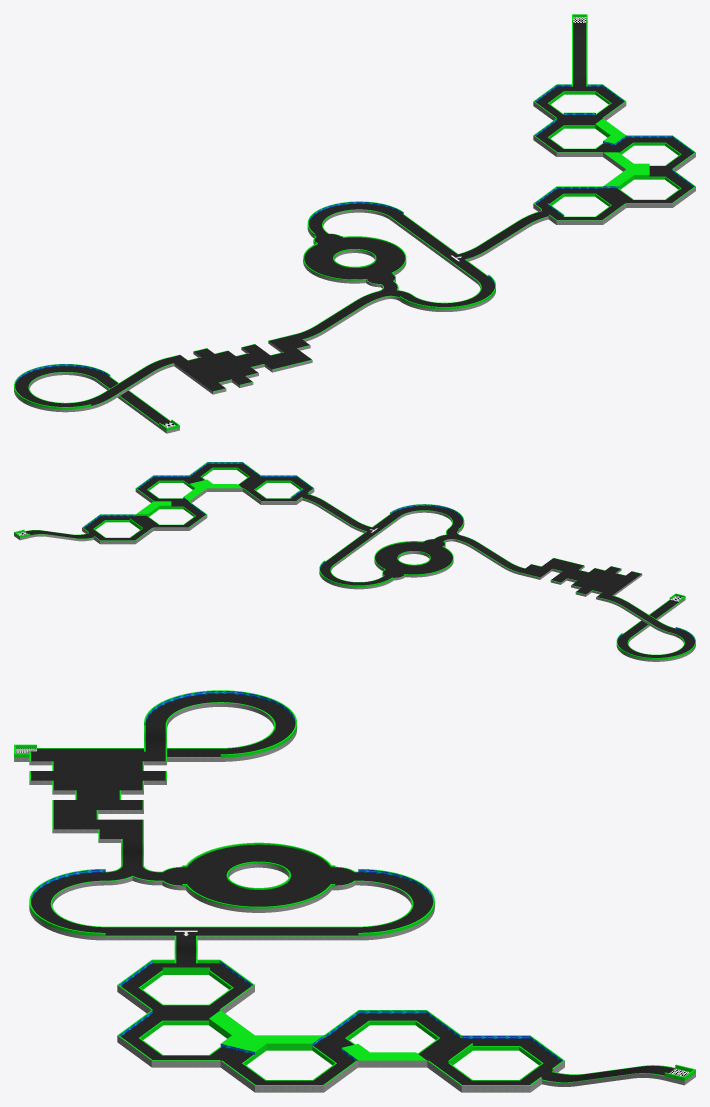
Rendered from track_basic4.dae.
3 views of the same model, one above another, from view 1: azimuth 30°, elevation 25°; view 2: azimuth 150°, elevation 25°; view 3: azimuth 270°, elevation 25° (orthographic). The views are drawn at different scales.
Visible parts, largest first — view 1: SketchUp (×7); view 2: SketchUp (×8); view 3: SketchUp (×10).
Part boxes in pixels (x1,y1,x2,y2): SketchUp (×7): [14, 14, 695, 433]; SketchUp (×8): [14, 462, 695, 661]; SketchUp (×10): [14, 690, 695, 1092].
Bounding box in the file's own units: 63648 × 35091 × 8073.
